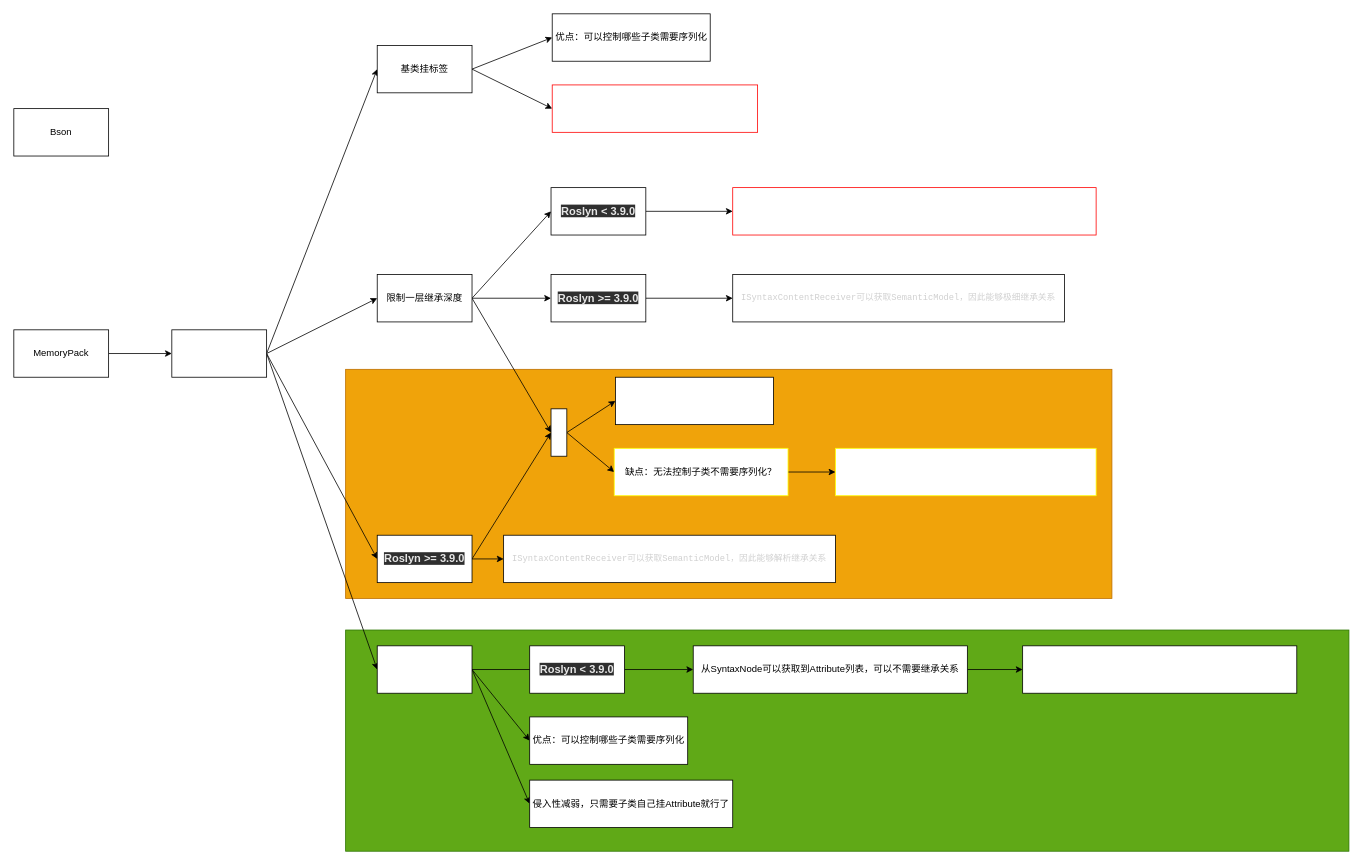
This 1363x865 diagram has some shape labels left out. The shapes that lost their labels are listed below. From the top down, each one's centre as x and y in pixels, then its label:
At point (654, 108): "缺点：入侵性强，需要不断修改基类标签".
At point (914, 211): "ISyntaxReceiver只有Syntax API无法获取SemanticModel，因此无法解析继承关系".
At point (219, 353): "多态支持".
At point (694, 400): "优点：子类不需要任何处理".
At point (965, 472): "是否可以认为基类支持序列化，子类也一定支持序列化呢？".
At point (424, 669): "子类挂Attribute".
At point (1159, 669): "到 Execute阶段后再通过 SemanticModel获取继承关系".
